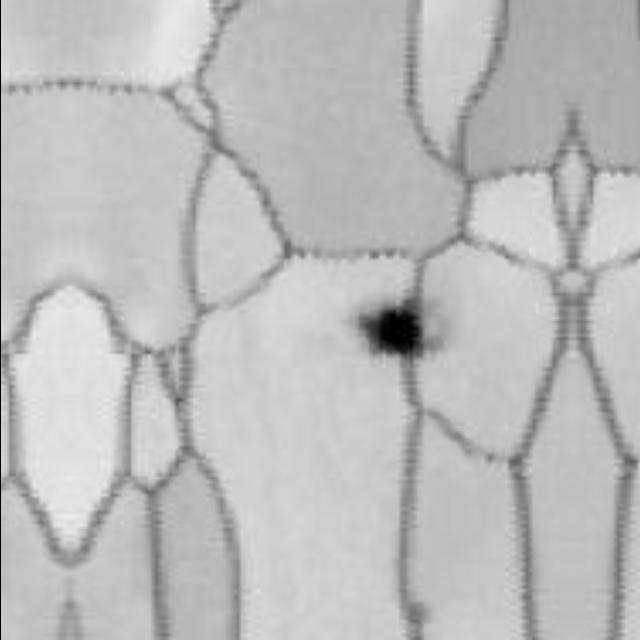good_void: (354, 298, 425, 364)
